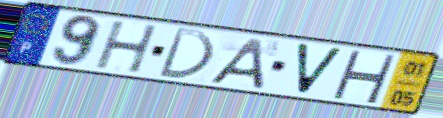9: (51, 13, 106, 69)
A: (205, 37, 265, 91)
D: (155, 25, 216, 82)
H: (329, 48, 399, 106), (93, 20, 161, 75)
V: (293, 41, 348, 98)
